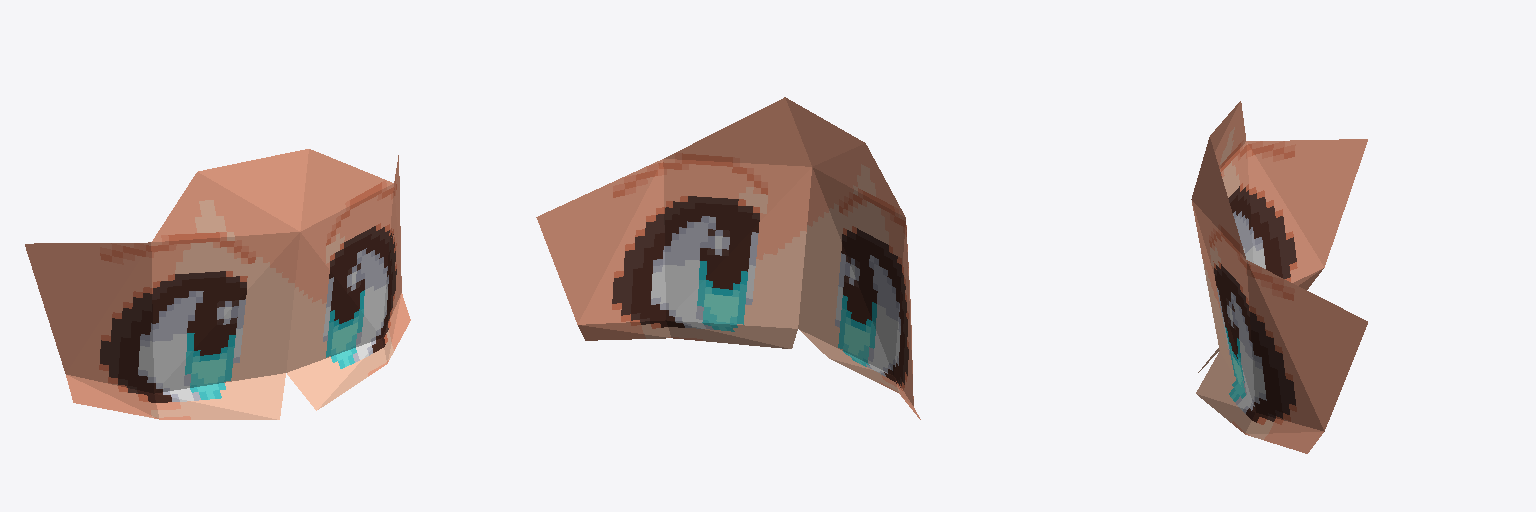
The picture shows the model from 3 angles: view 1: azimuth 30°, elevation 25°; view 2: azimuth 150°, elevation 25°; view 3: azimuth 270°, elevation 25°; orthographic projection.
Parts seen in each view (by area): view 1: 01_HEAD_FACE; view 2: 01_HEAD_FACE; view 3: 01_HEAD_FACE.
Part boxes in pixels (x1,y1,x2,y2): 01_HEAD_FACE: (25,149,410,419); 01_HEAD_FACE: (536,97,920,419); 01_HEAD_FACE: (1191,101,1367,453).
Bounding box in the file's own units: 0.2342 × 0.1538 × 0.096.
1 materials, 1 textured.